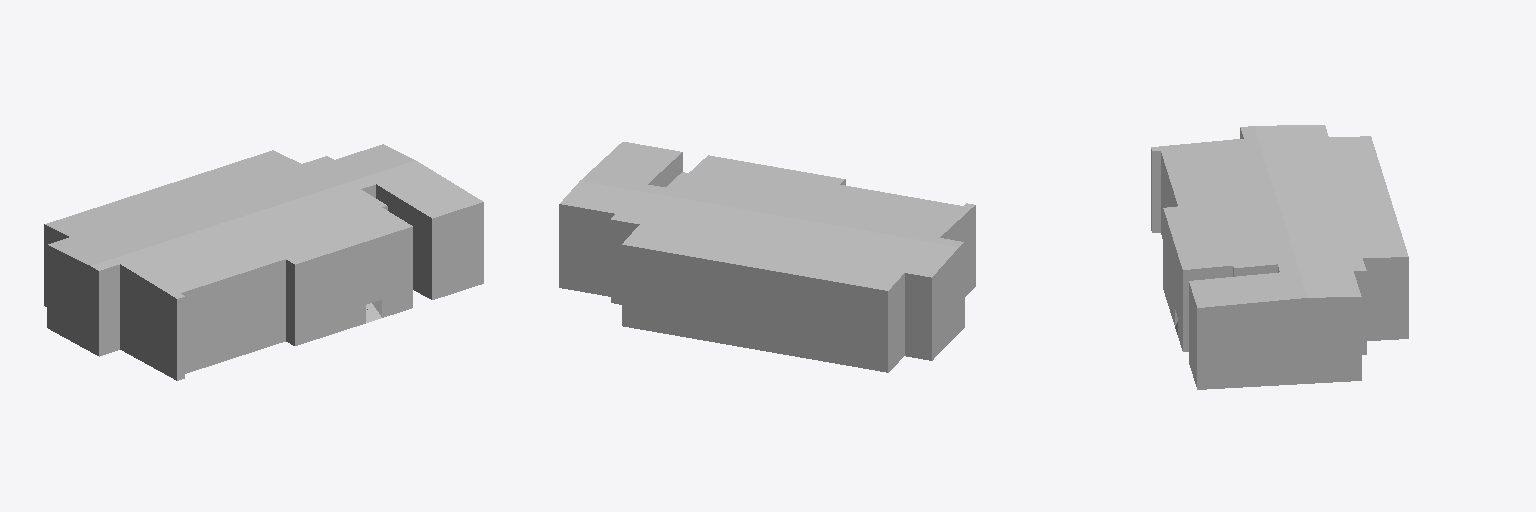
The model's file is map_17.osm_buildings.002.obj.
The picture shows the model from 3 angles: view 1: azimuth 30°, elevation 25°; view 2: azimuth 150°, elevation 25°; view 3: azimuth 270°, elevation 25°; orthographic projection.
Visible parts, largest first — view 1: map_17.osm_buildings.002; view 2: map_17.osm_buildings.002; view 3: map_17.osm_buildings.002.
Boxes of the visible parts, x1=… form: map_17.osm_buildings.002: x1=44, y1=144, x2=483, y2=380; map_17.osm_buildings.002: x1=559, y1=142, x2=975, y2=372; map_17.osm_buildings.002: x1=1151, y1=125, x2=1408, y2=389.
Size of the model in its own units: 272 by 60.04 by 163.